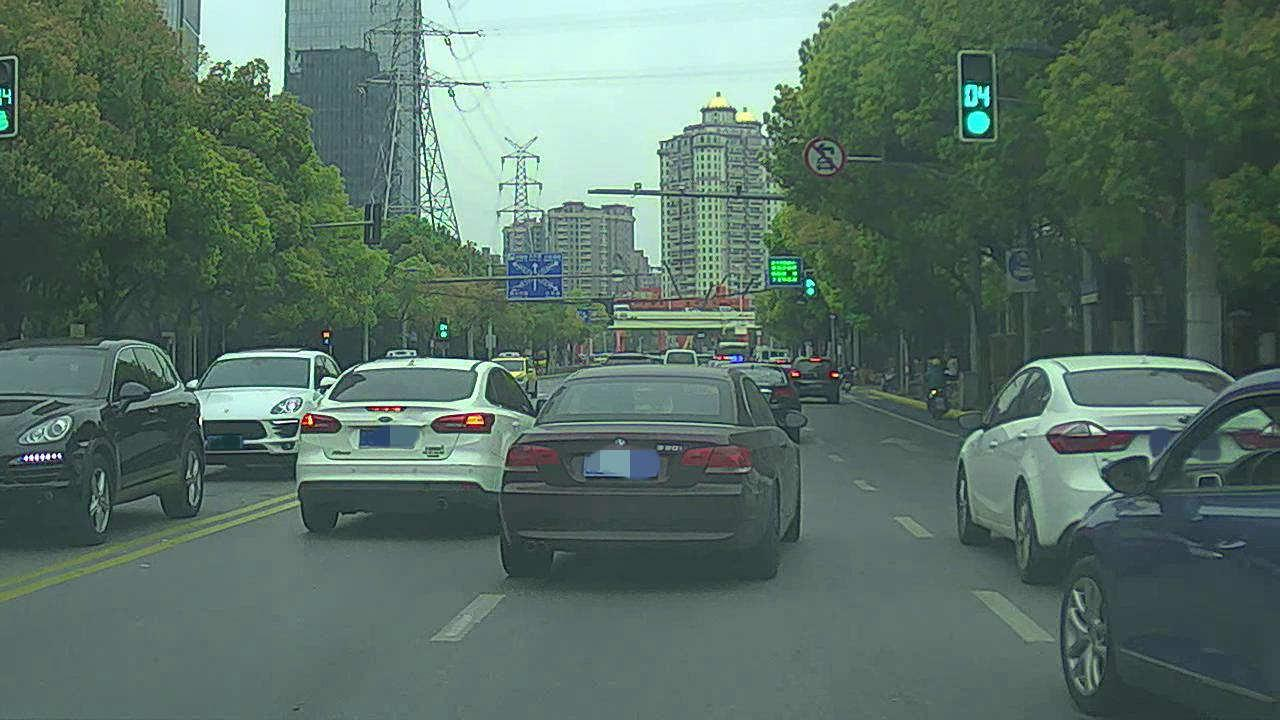traffic_light: (958, 52, 998, 140), (1, 56, 20, 137)
